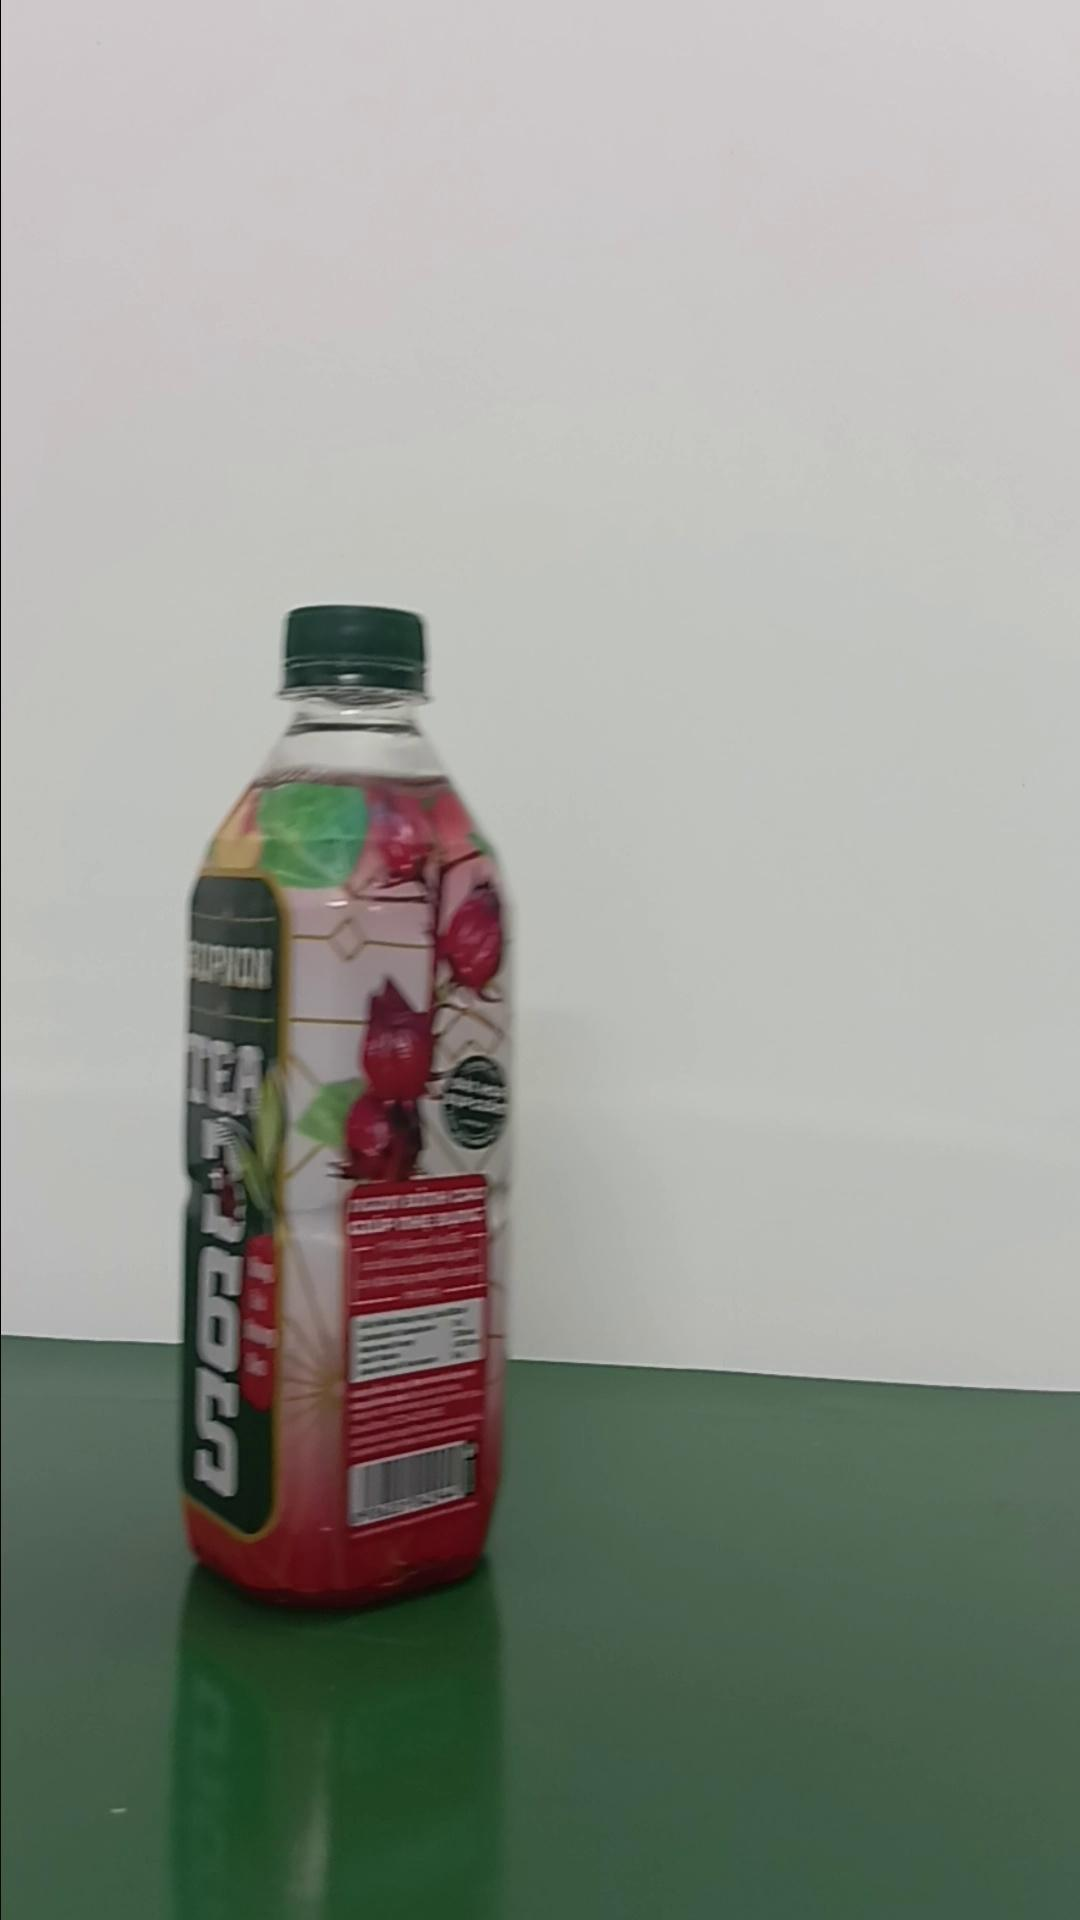loi rach va lap chai: (171, 596, 513, 1619)
